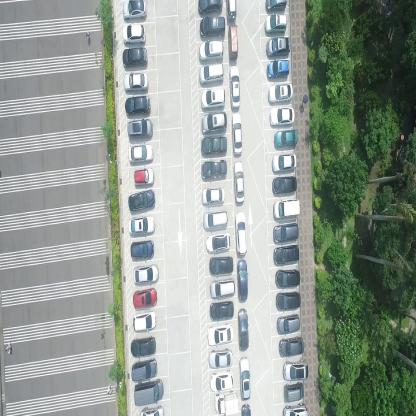car: (134, 377, 164, 406), (128, 188, 156, 212), (130, 357, 159, 380), (198, 60, 223, 86), (200, 109, 226, 134), (213, 389, 238, 415), (273, 195, 300, 219), (267, 80, 293, 104), (265, 34, 291, 58), (238, 354, 251, 402), (200, 157, 227, 180), (200, 134, 228, 156), (126, 214, 155, 235), (202, 207, 228, 230), (207, 323, 233, 346), (132, 286, 158, 309), (199, 15, 225, 38), (273, 220, 300, 242), (235, 210, 248, 255), (269, 104, 294, 127), (276, 313, 301, 336), (198, 38, 223, 61), (274, 242, 300, 264), (205, 230, 231, 252), (130, 335, 156, 357), (207, 347, 233, 369), (283, 359, 309, 381), (128, 118, 154, 140), (132, 262, 159, 283), (208, 277, 235, 298), (199, 86, 224, 108), (210, 370, 235, 392), (278, 336, 304, 357), (122, 47, 148, 68), (233, 159, 245, 203), (238, 307, 250, 351), (266, 57, 290, 79), (273, 127, 298, 148), (132, 310, 157, 331), (128, 143, 153, 164), (271, 152, 297, 172), (129, 238, 155, 258), (125, 95, 151, 115), (271, 174, 298, 193), (264, 12, 287, 34), (201, 184, 225, 205), (122, 23, 146, 44), (276, 266, 301, 286), (276, 291, 301, 311), (122, 0, 147, 20), (229, 63, 240, 108), (231, 111, 242, 155), (283, 381, 304, 404), (209, 254, 233, 274), (124, 72, 148, 92), (209, 301, 234, 320), (238, 258, 249, 300), (132, 166, 154, 186), (227, 22, 238, 60), (197, 0, 223, 15), (282, 402, 308, 415), (264, 0, 287, 14), (139, 404, 165, 415), (226, 0, 236, 20)
